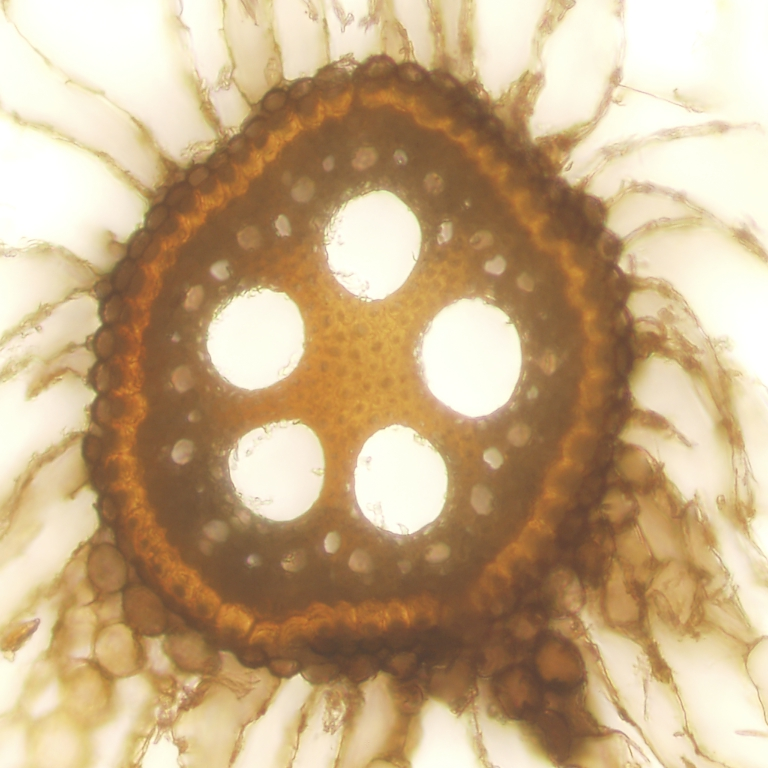lm: (419, 296, 523, 417), (323, 189, 422, 302), (355, 424, 449, 536), (207, 285, 305, 391), (227, 418, 325, 521)
